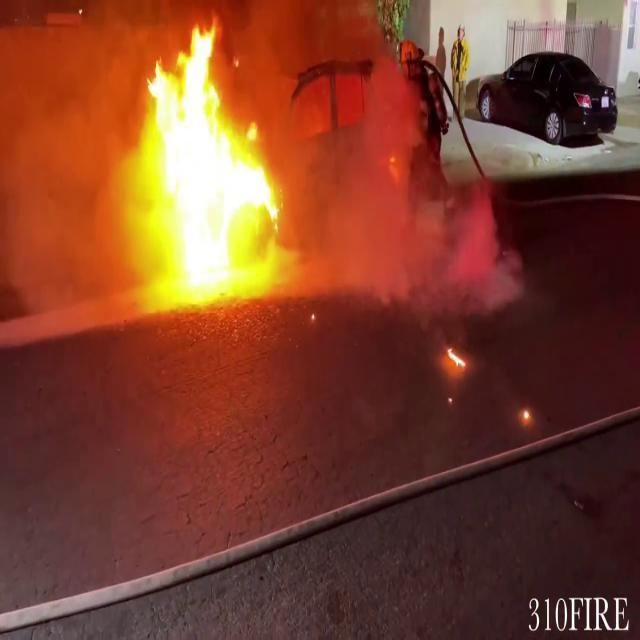Fire: (125, 17, 288, 311)
Smoke: (239, 0, 481, 308)
